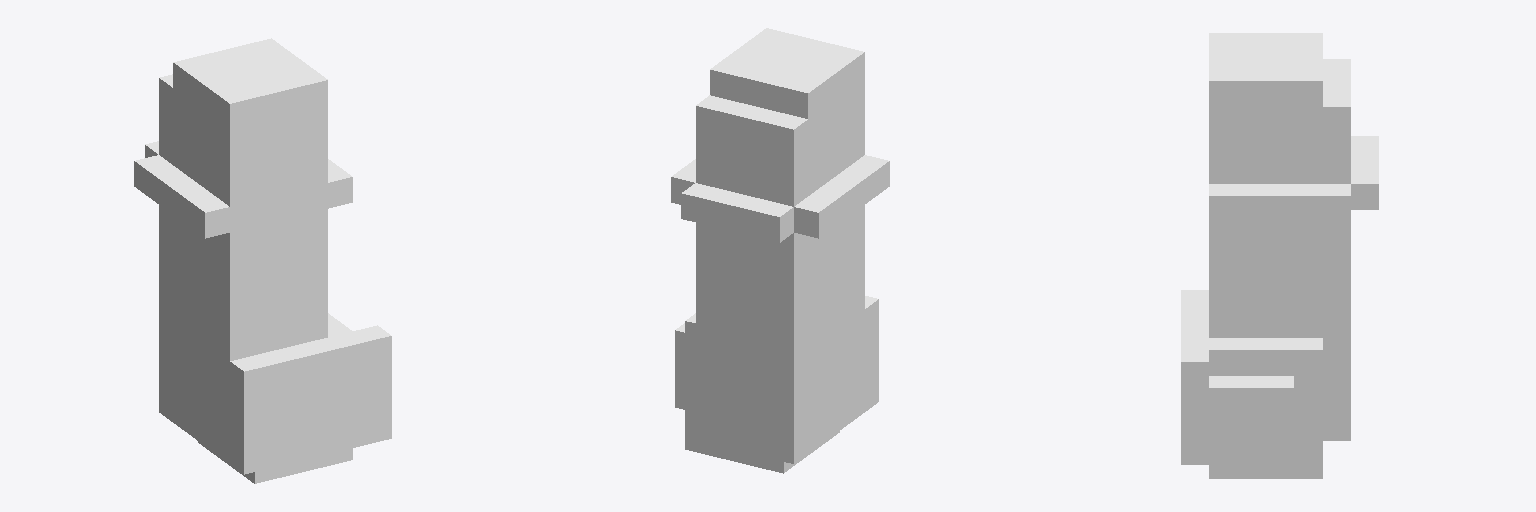
The model's file is player-1.obj.
3 views of the same model, side by side, from view 1: azimuth 30°, elevation 25°; view 2: azimuth 150°, elevation 25°; view 3: azimuth 270°, elevation 25° (orthographic).
Parts seen in each view (by area): view 1: object 1; view 2: object 1; view 3: object 1.
Boxes of the visible parts, box(x1,y1,x2,y2) form: object 1: box(134, 38, 391, 483); object 1: box(671, 28, 889, 473); object 1: box(1181, 33, 1378, 478).
Bounding box in the file's own units: 0.7 × 1.5 × 0.7.